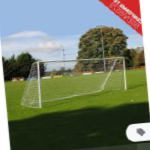goals: (19, 56, 131, 109)
